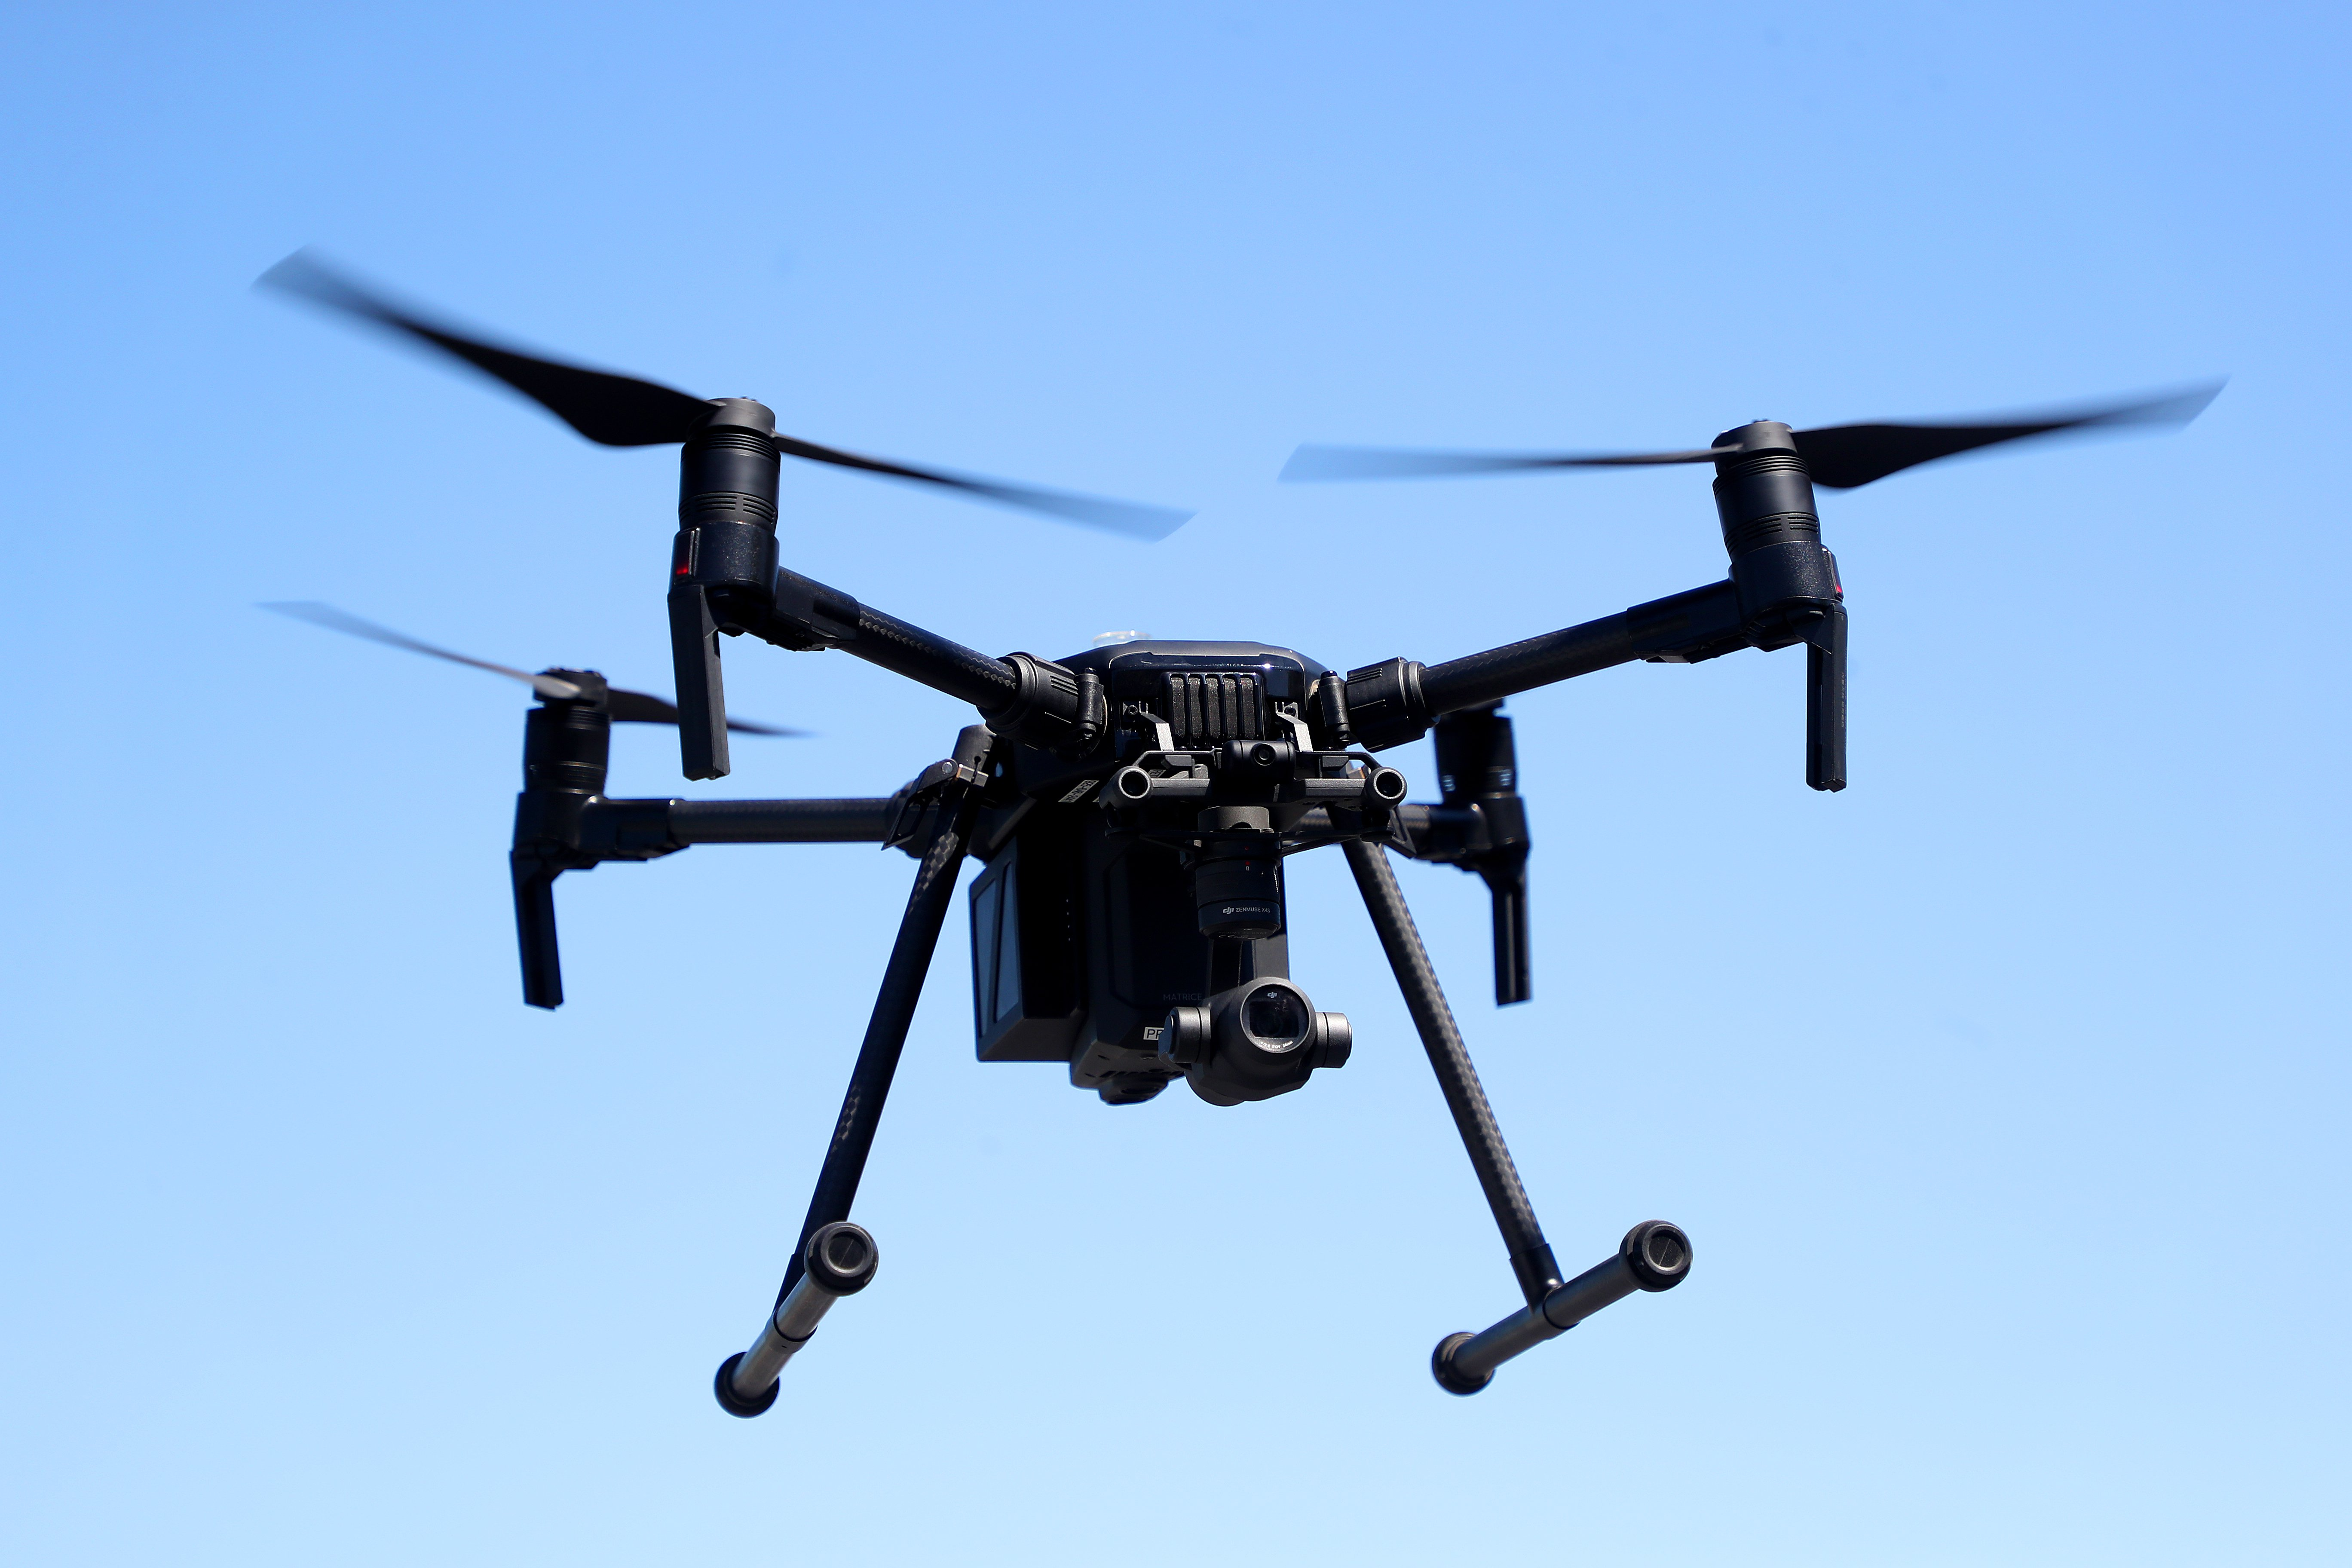drone: (226, 231, 2229, 1435)
